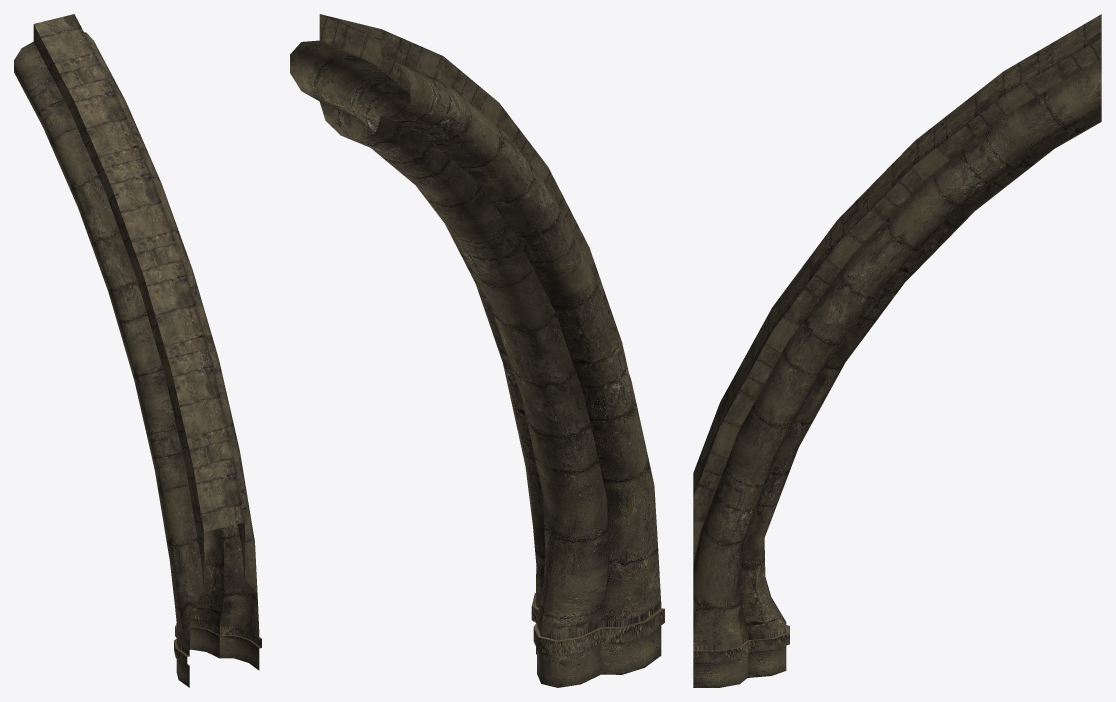
Rendered from NC_arch_heavy_half.DAE.
3 views of the same model, side by side, from view 1: azimuth 30°, elevation 25°; view 2: azimuth 150°, elevation 25°; view 3: azimuth 270°, elevation 25° (orthographic). The views are drawn at different scales.
Visible parts, largest first — view 1: NC_arch_heavy_half; view 2: NC_arch_heavy_half; view 3: NC_arch_heavy_half.
Boxes of the visible parts, x1=… form: NC_arch_heavy_half: x1=14, y1=14, x2=261, y2=687; NC_arch_heavy_half: x1=290, y1=14, x2=664, y2=687; NC_arch_heavy_half: x1=693, y1=14, x2=1101, y2=687.
Size of the model in its own units: 0.7425 by 2.75 by 4.77.
